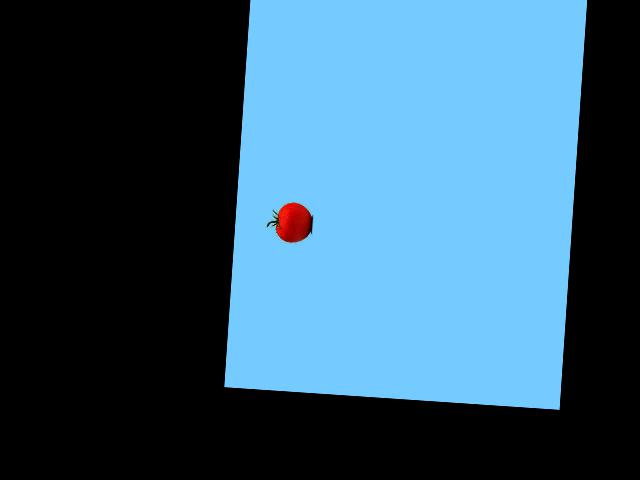tomato: (275, 201, 312, 243)
